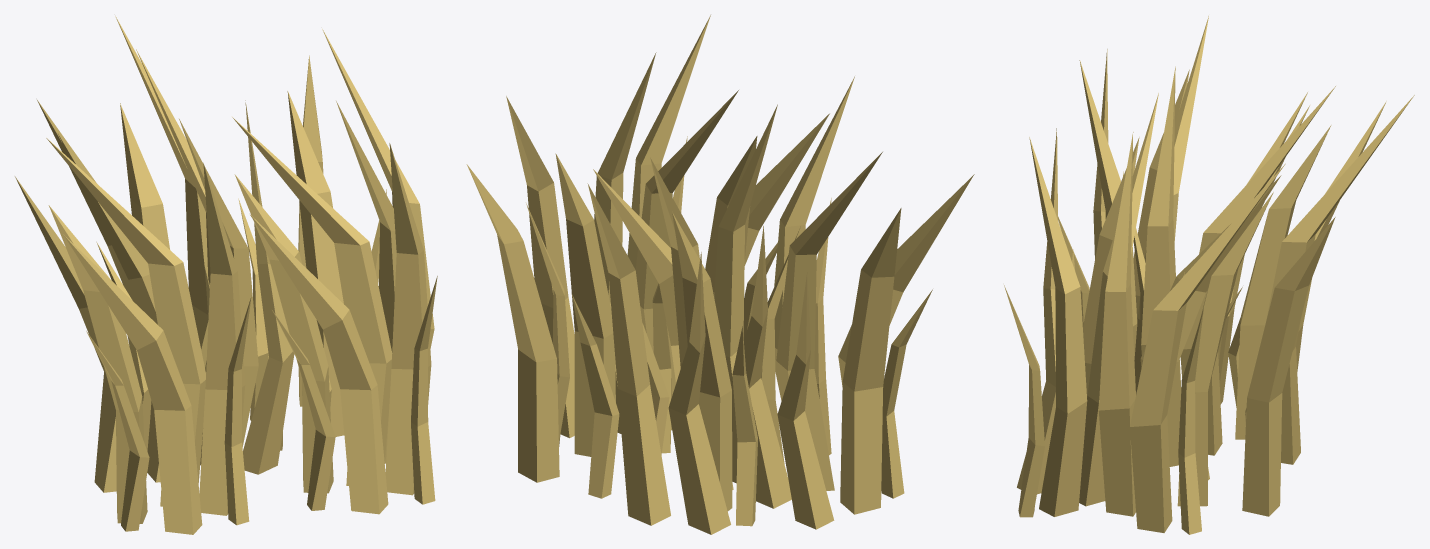
Rendered from 01_01Grass_Orange.fbx.
3 views of the same model, side by side, from view 1: azimuth 30°, elevation 25°; view 2: azimuth 150°, elevation 25°; view 3: azimuth 270°, elevation 25° (orthographic). The views are drawn at different scales.
Parts seen in each view (by area): view 1: Icosphere.058; view 2: Icosphere.058; view 3: Icosphere.058.
Part boxes in pixels (x1,y1,x2,y2): Icosphere.058: (15,16,437,534); Icosphere.058: (466,15,974,534); Icosphere.058: (1004,16,1414,534).
Bounding box in the file's own units: 56.37 × 52.36 × 52.93.
